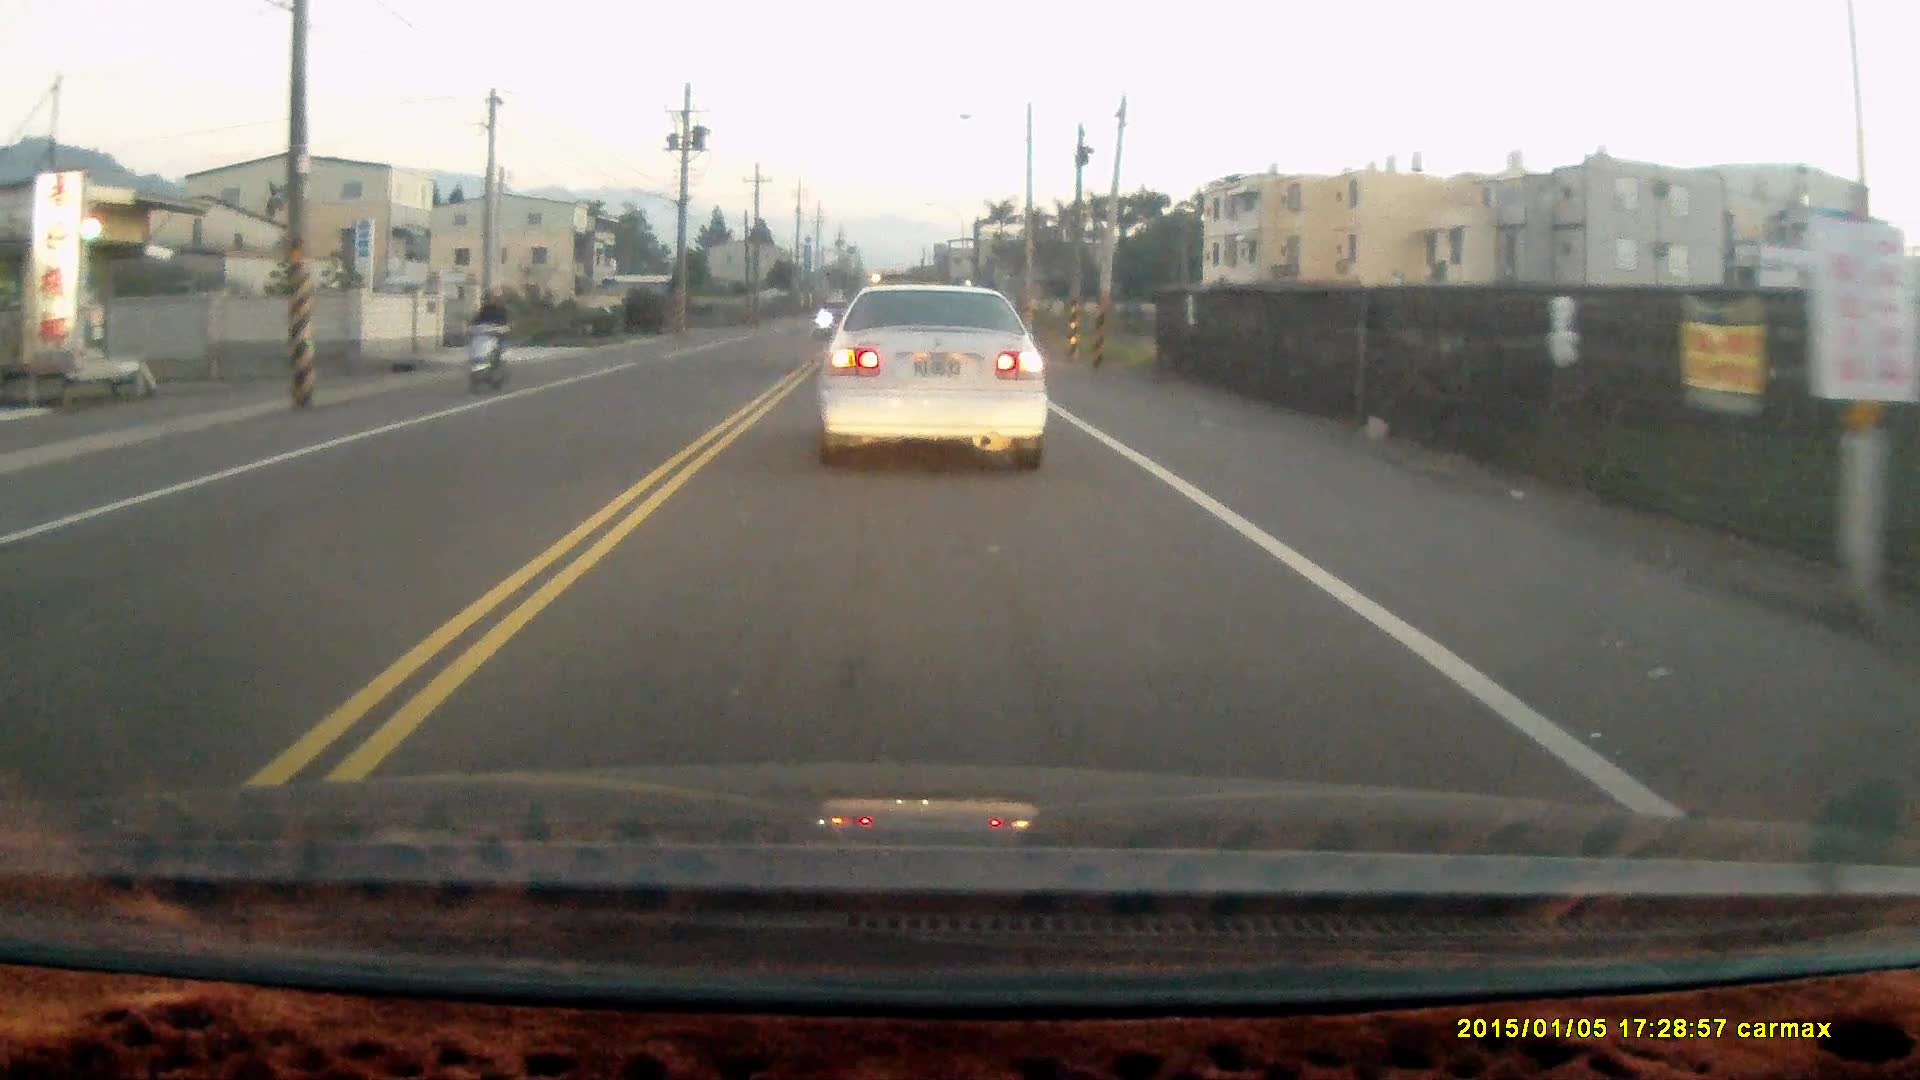rider: (459, 285, 512, 402)
vehicle: (812, 282, 1049, 473)
